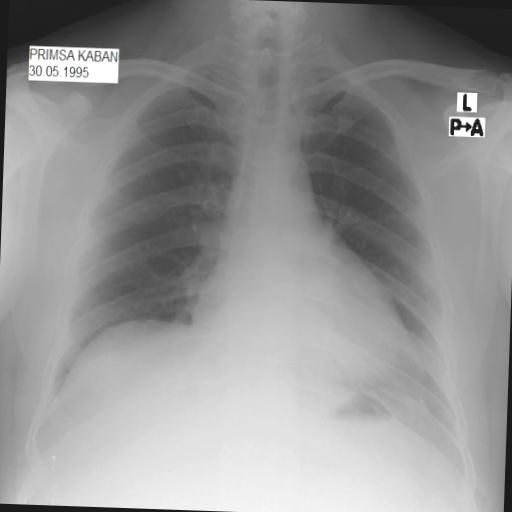kardiomegali: (181, 206, 432, 410)
